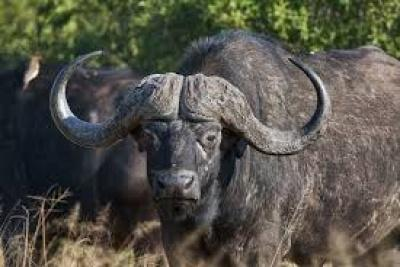buffalo: (48, 31, 400, 267)
